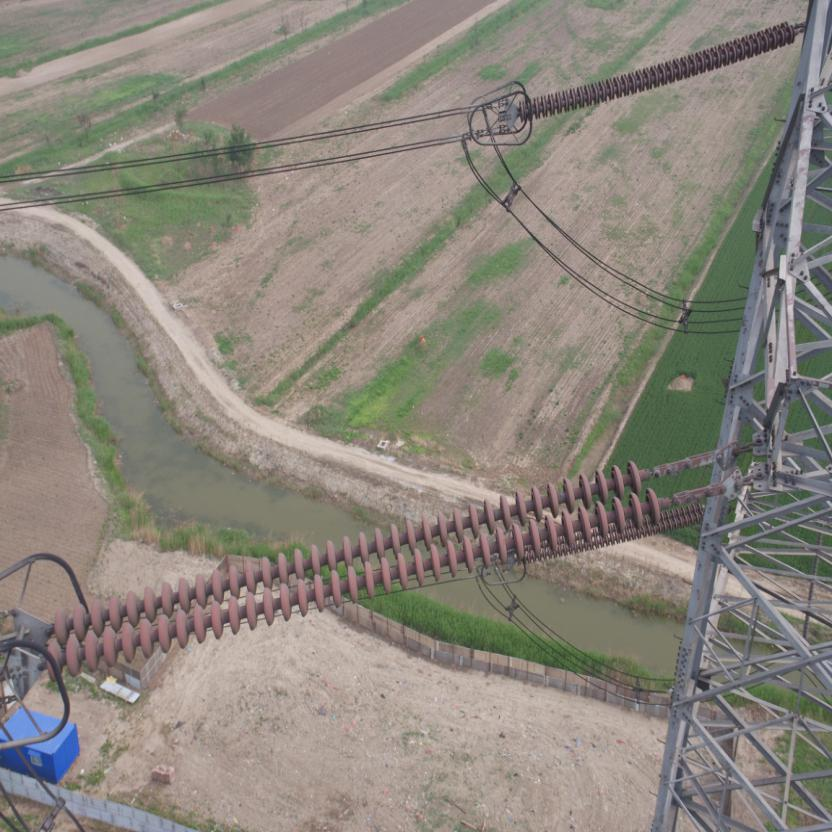insulator: (32, 446, 698, 686), (512, 15, 802, 127)
